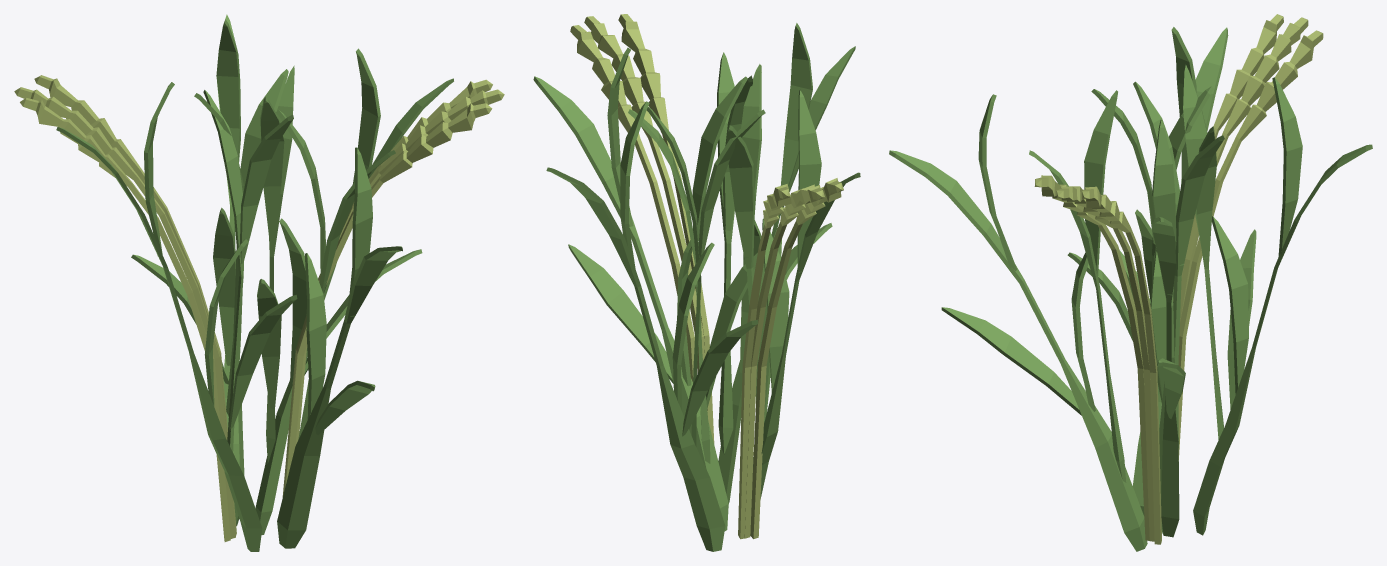
Rendered from rice_4.gltf.
3 views of the same model, side by side, from view 1: azimuth 30°, elevation 25°; view 2: azimuth 150°, elevation 25°; view 3: azimuth 270°, elevation 25° (orthographic).
Parts seen in each view (by area): view 1: rice_4; view 2: rice_4; view 3: rice_4.
Part boxes in pixels (x1=…): rice_4: x1=14, y1=14, x2=504, y2=551; rice_4: x1=533, y1=14, x2=860, y2=551; rice_4: x1=889, y1=14, x2=1372, y2=551.
Bounding box in the file's own units: 0.7786 × 0.9535 × 0.8808.
Materials: 1 (1 with a texture image).
